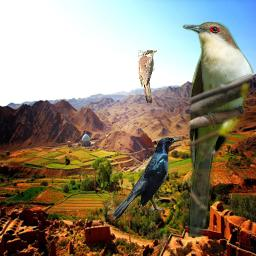Crow: (111, 136, 183, 220)
Cuckoo: (182, 21, 255, 237), (138, 50, 157, 103)
